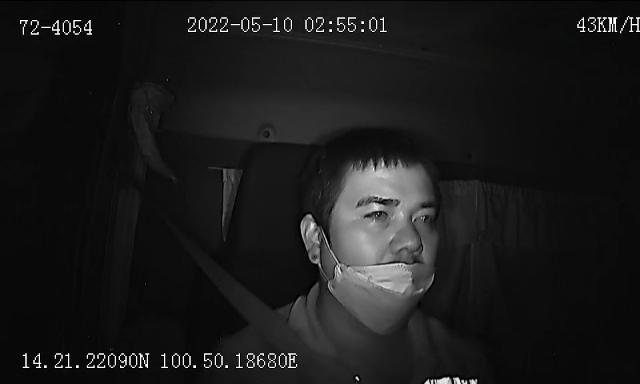SafeDriving: (358, 202, 396, 224), (408, 204, 439, 230)
Seatbelt: (218, 272, 308, 366)
